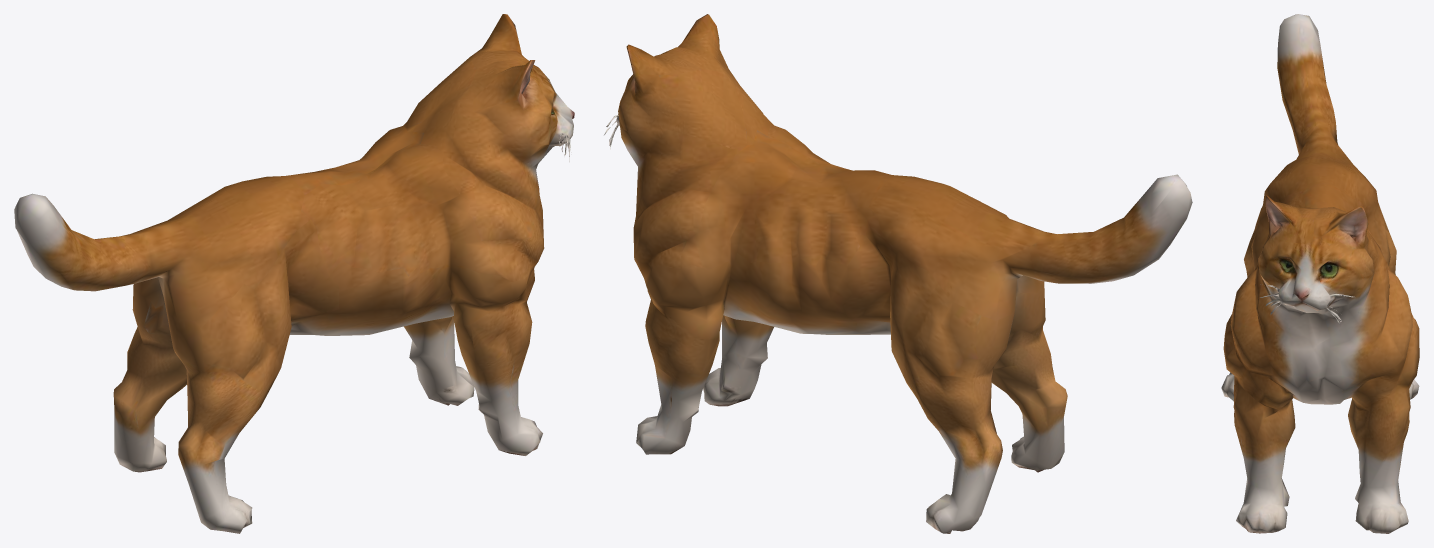
Rendered from BURLYPAW-lo.glb.
3 views of the same model, side by side, from view 1: azimuth 30°, elevation 25°; view 2: azimuth 150°, elevation 25°; view 3: azimuth 270°, elevation 25° (orthographic). The views are drawn at different scales.
Visible parts, largest first — view 1: tripo_node_4e87ffeb-2de9-4d6d-8f95-0755313d1712; view 2: tripo_node_4e87ffeb-2de9-4d6d-8f95-0755313d1712; view 3: tripo_node_4e87ffeb-2de9-4d6d-8f95-0755313d1712.
Boxes of the visible parts, box(x1,y1,x2,y2) form: tripo_node_4e87ffeb-2de9-4d6d-8f95-0755313d1712: box(14, 14, 574, 533); tripo_node_4e87ffeb-2de9-4d6d-8f95-0755313d1712: box(604, 14, 1192, 533); tripo_node_4e87ffeb-2de9-4d6d-8f95-0755313d1712: box(1221, 14, 1419, 533).
Size of the model in its own units: 1.53 by 1 by 0.5255.
1 material, 1 textured.
